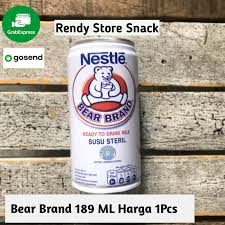Bear Brand Susu Steril (189ml): (64, 39, 142, 192)
